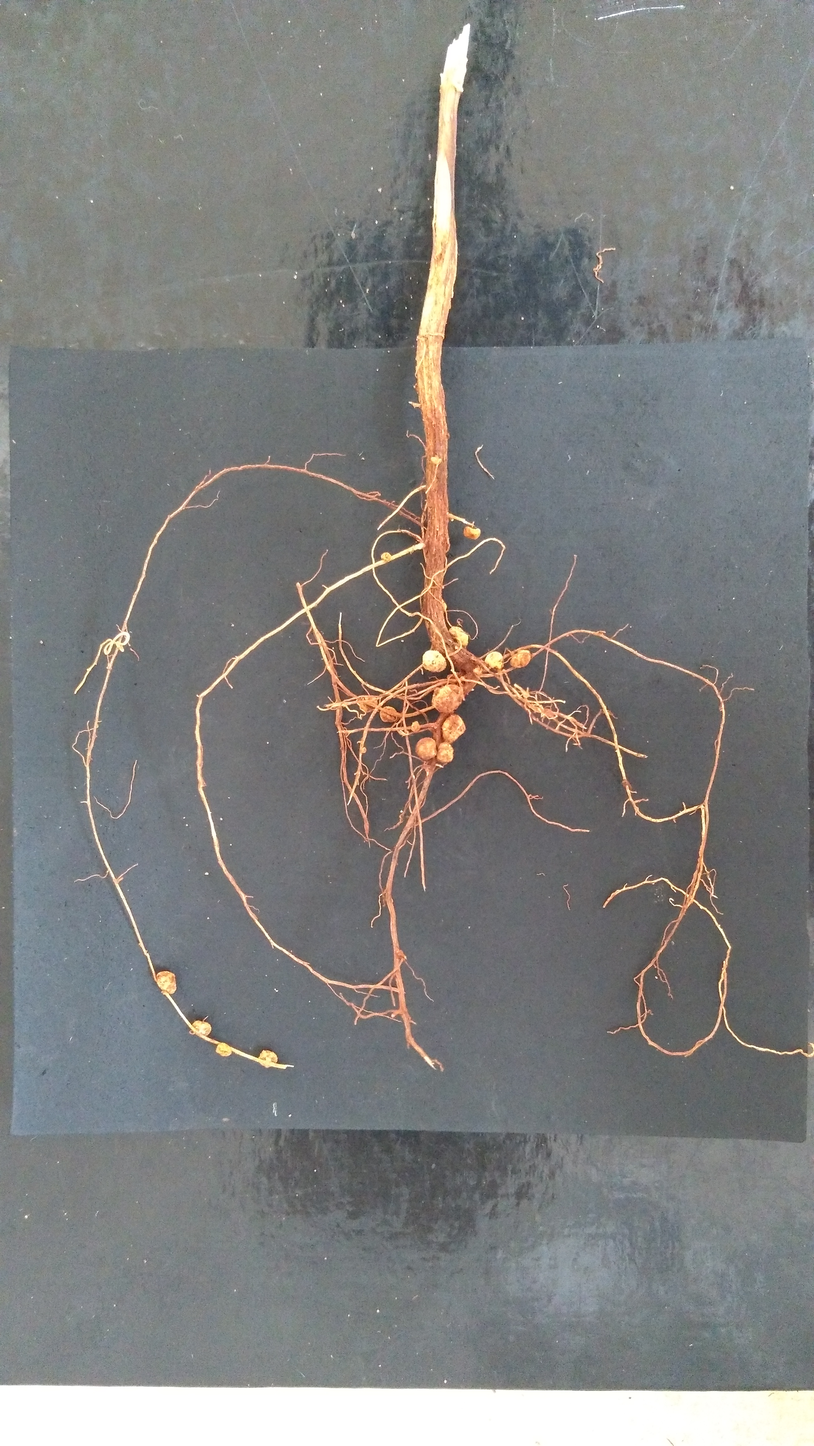nodule: (431, 683, 464, 714), (442, 713, 466, 743), (422, 649, 447, 673), (414, 737, 437, 761), (155, 970, 177, 995), (449, 626, 469, 646), (484, 650, 504, 670), (510, 649, 531, 668), (356, 694, 378, 712), (436, 741, 454, 763), (191, 1020, 212, 1038), (258, 1050, 278, 1068), (379, 706, 398, 723), (463, 525, 481, 539), (216, 1042, 232, 1057), (621, 778, 632, 791), (472, 664, 484, 675), (439, 598, 448, 612), (380, 552, 392, 562), (430, 456, 442, 465), (411, 721, 420, 732), (361, 746, 367, 754)
